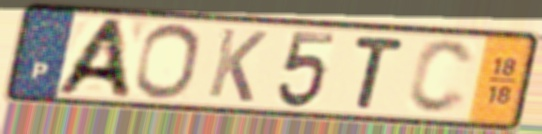5: (274, 29, 340, 108)
A: (48, 17, 136, 101)
C: (404, 37, 478, 117)
K: (204, 25, 272, 105)
O: (131, 21, 203, 101)
T: (350, 33, 408, 112)
